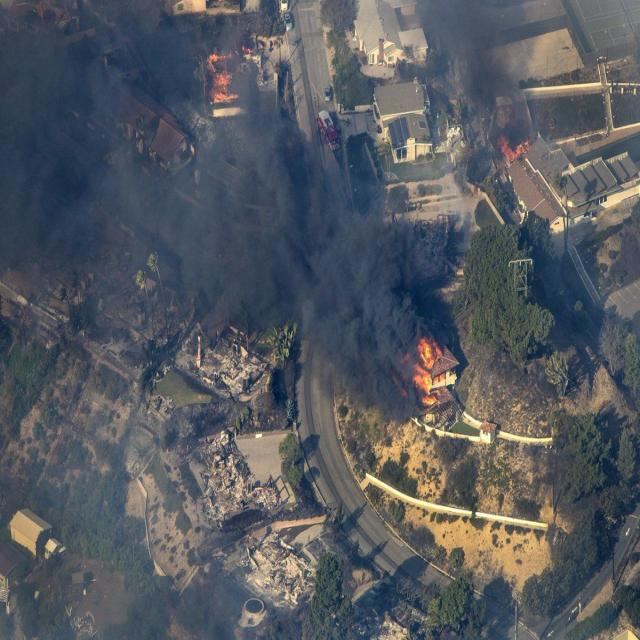Fire: (197, 36, 260, 123), (401, 330, 464, 407)
Smoke: (0, 0, 547, 450)
